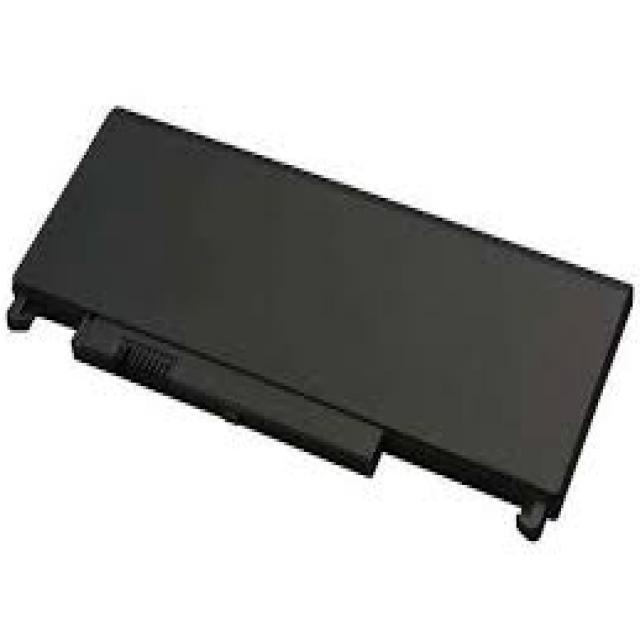battery: (7, 89, 632, 541)
